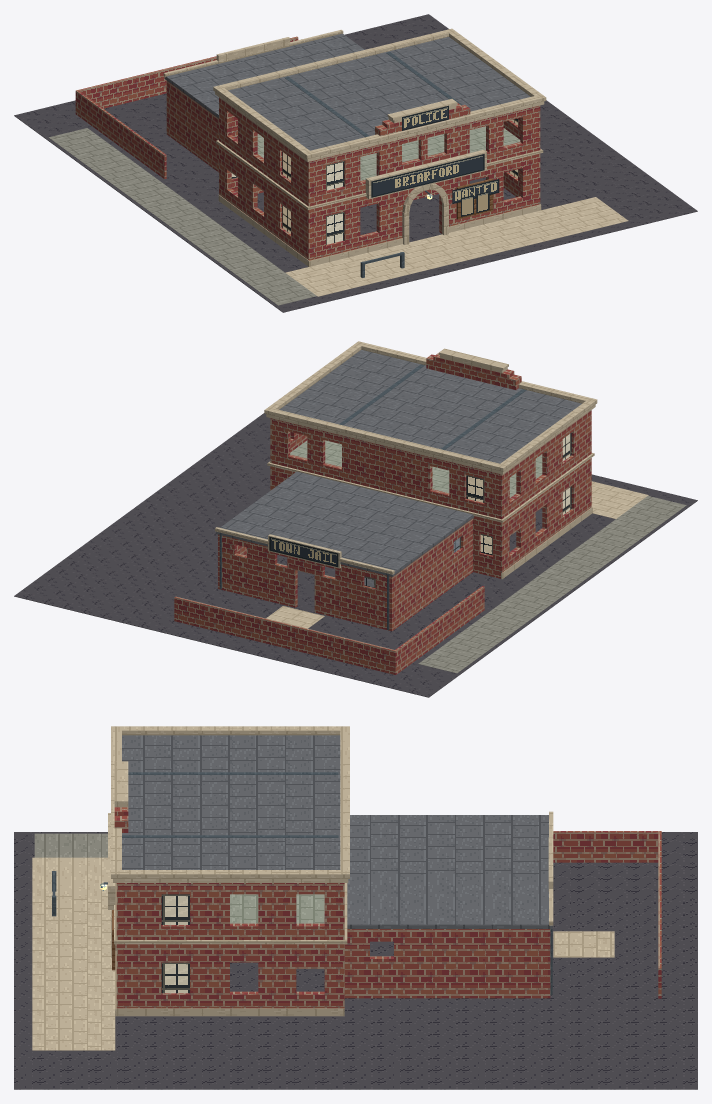
Rendered from briarford-1900-far.glb.
3 renders of one model, top to bottom at view 1: azimuth 30°, elevation 25°; view 2: azimuth 150°, elevation 25°; view 3: azimuth 270°, elevation 25°, orthographic. The views are drawn at different scales.
Visible parts, largest first — view 1: shell, lot, yard_fence, sign_name; view 2: shell, lot, yard_fence; view 3: shell, lot, yard_fence.
Part boxes in pixels (<box>): shell: <box>163,28,546,266</box>; lot: <box>14,14,697,312</box>; yard_fence: <box>75,36,298,179</box>; sign_name: <box>371,154,484,197</box>; shell: <box>215,341,597,631</box>; lot: <box>14,413,697,697</box>; yard_fence: <box>174,586,484,674</box>; shell: <box>100,726,553,1016</box>; lot: <box>14,832,697,1089</box>; yard_fence: <box>553,831,661,998</box>.
Bounding box in the file's own units: 26.7 × 7.93 × 30.
Materials: 12 (12 with a texture image).
